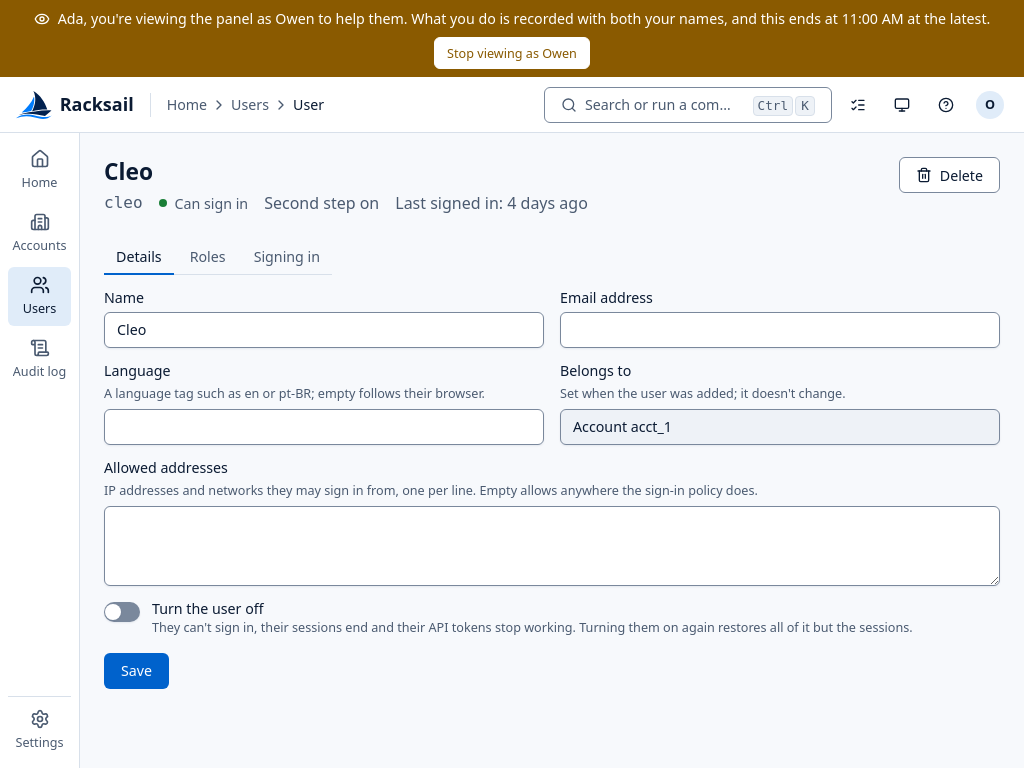
Scenario: users › offers no help back in while viewing the panel as someone
The image size is (1024, 768).
Expected: the heading "Cleo" is shown, [104,156,153,187]
Click the tab "Signing in". click: (287, 257)
box: [242,239,332,275]
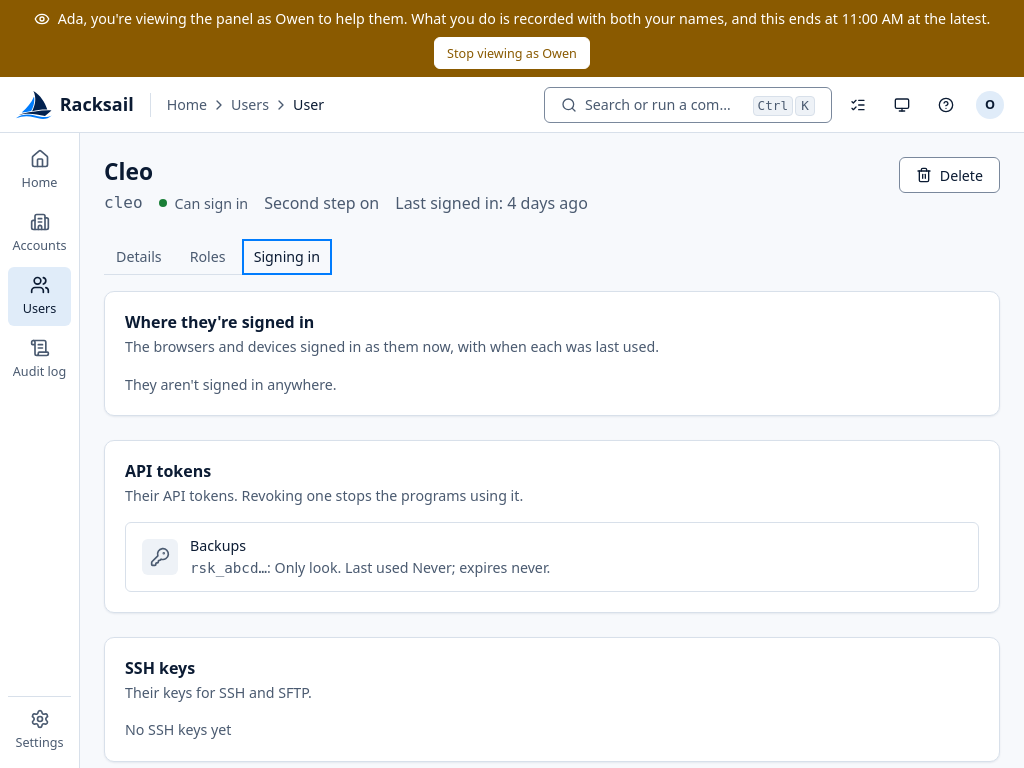
Expected: the text "Backups" is shown, [190,535,246,557]
